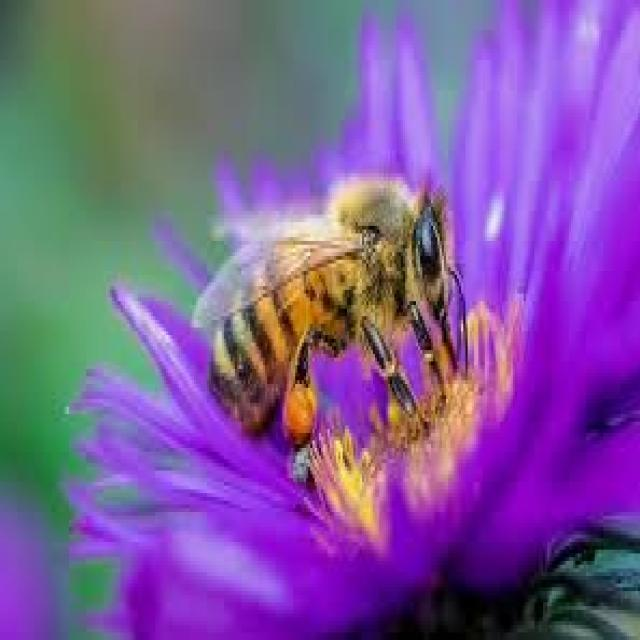Bees: (193, 168, 467, 462)
